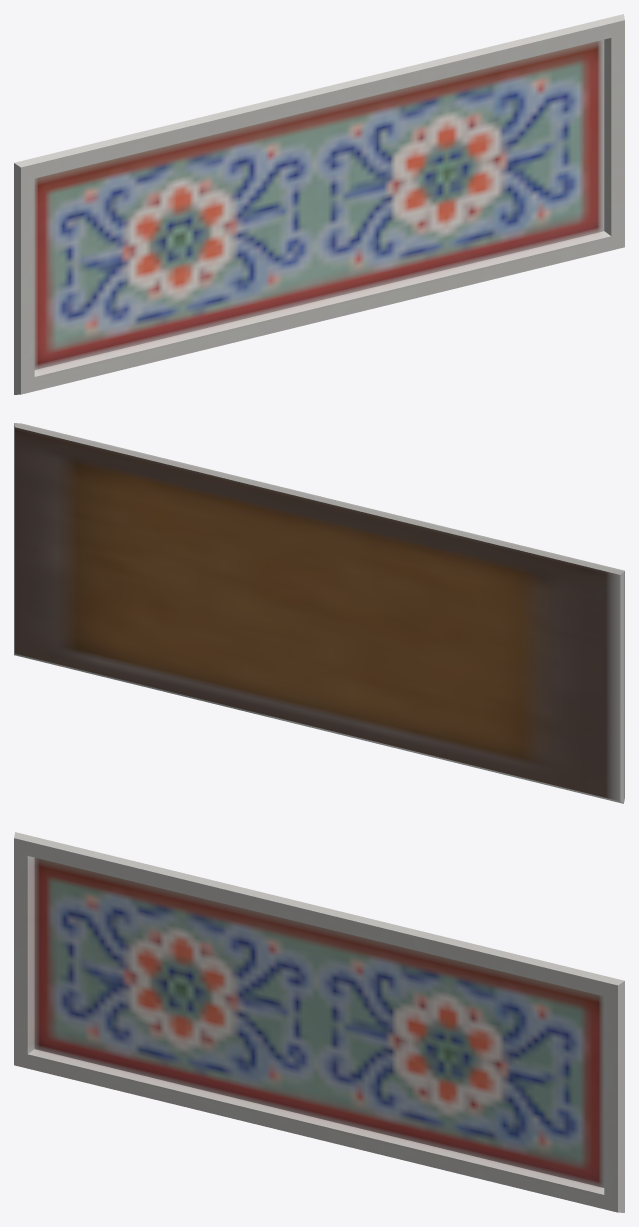
Rendered from Painting_Wide_B.FBX.
The picture shows the model from 3 angles, top to bottom: view 1: azimuth 30°, elevation 25°; view 2: azimuth 150°, elevation 25°; view 3: azimuth 330°, elevation 25°; orthographic projection.
Parts seen in each view (by area): view 1: Painting_Wide_B; view 2: Painting_Wide_B; view 3: Painting_Wide_B.
Part boxes in pixels (x1,y1,x2,y2): Painting_Wide_B: [14, 14, 624, 394]; Painting_Wide_B: [14, 423, 624, 803]; Painting_Wide_B: [14, 832, 624, 1212].
Bounding box in the file's own units: 83.21 × 30.26 × 1.23.
